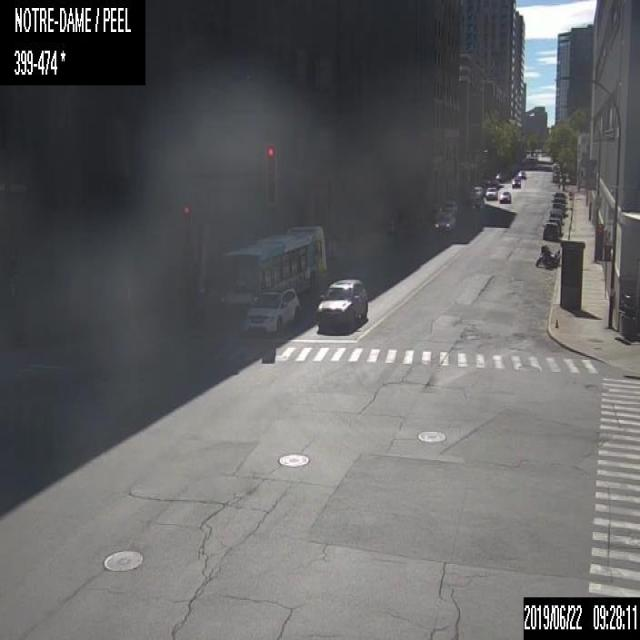bus: (220, 224, 326, 309)
vehicle: (316, 276, 369, 331), (244, 286, 300, 334), (433, 208, 456, 233), (535, 245, 560, 268), (542, 221, 558, 240), (440, 200, 457, 214), (549, 208, 561, 224), (552, 202, 564, 214), (471, 198, 483, 210), (485, 186, 496, 199), (498, 190, 510, 201), (471, 185, 483, 196), (511, 176, 520, 187), (550, 197, 565, 202), (553, 191, 565, 197), (518, 169, 524, 176)
